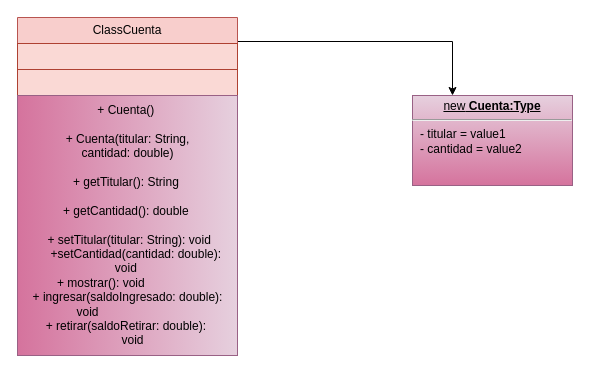
This 590x373 diagram has some shape labels left out. The shapes that lost their labels are listed below. From the top down, each one's box as (x1, y1, x2, y2) in pixels, then its label:
(16, 42, 238, 70): - titular: String
(16, 68, 238, 96): - cantidad: double
